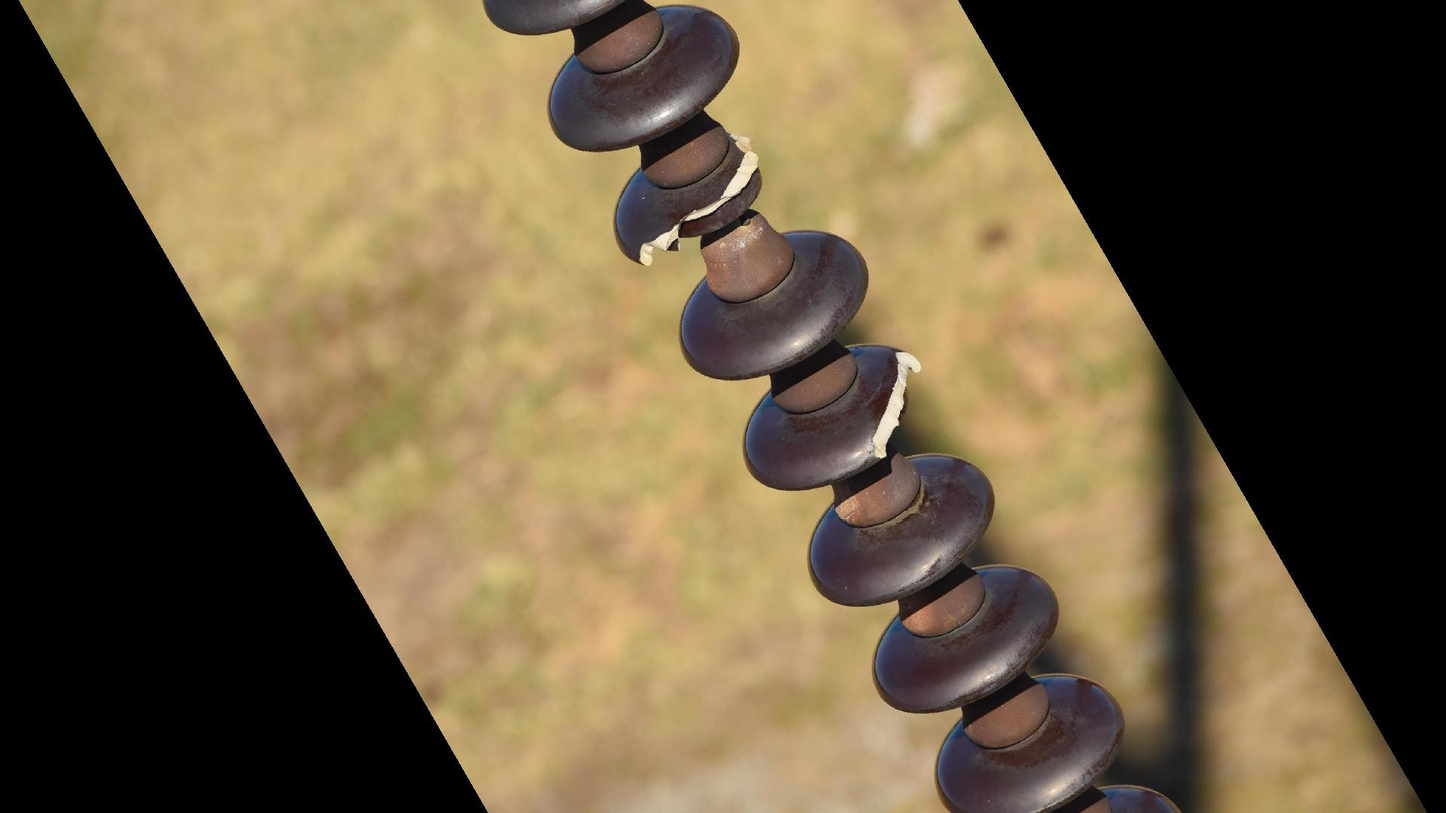insulator: (476, 1, 1191, 813)
insulator_breakage: (629, 122, 764, 274), (859, 337, 931, 470)
